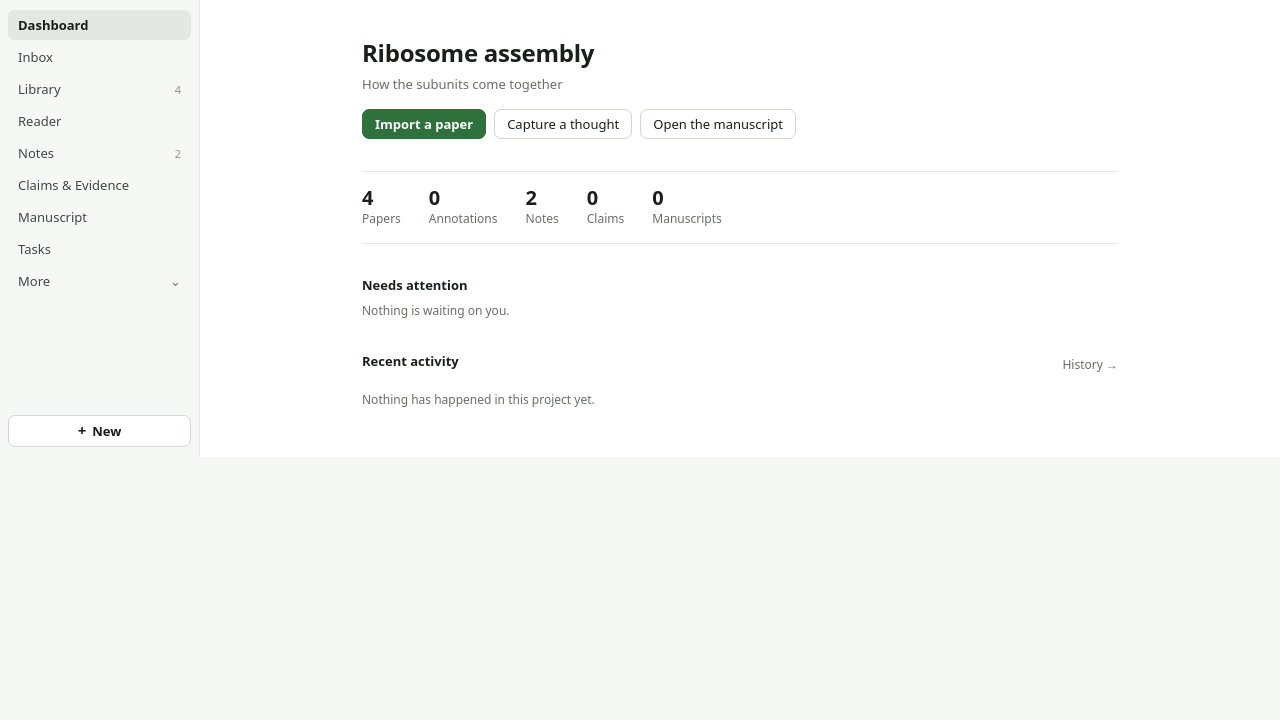
Scenario: the rail › folds everything else behind More
Expected: the button "Trash" is not shown
What coordinates should you click on to do the following:
click the button with aria-label "More pages"
I would click on:
 (100, 281)
Its box is [8,266,191,296].
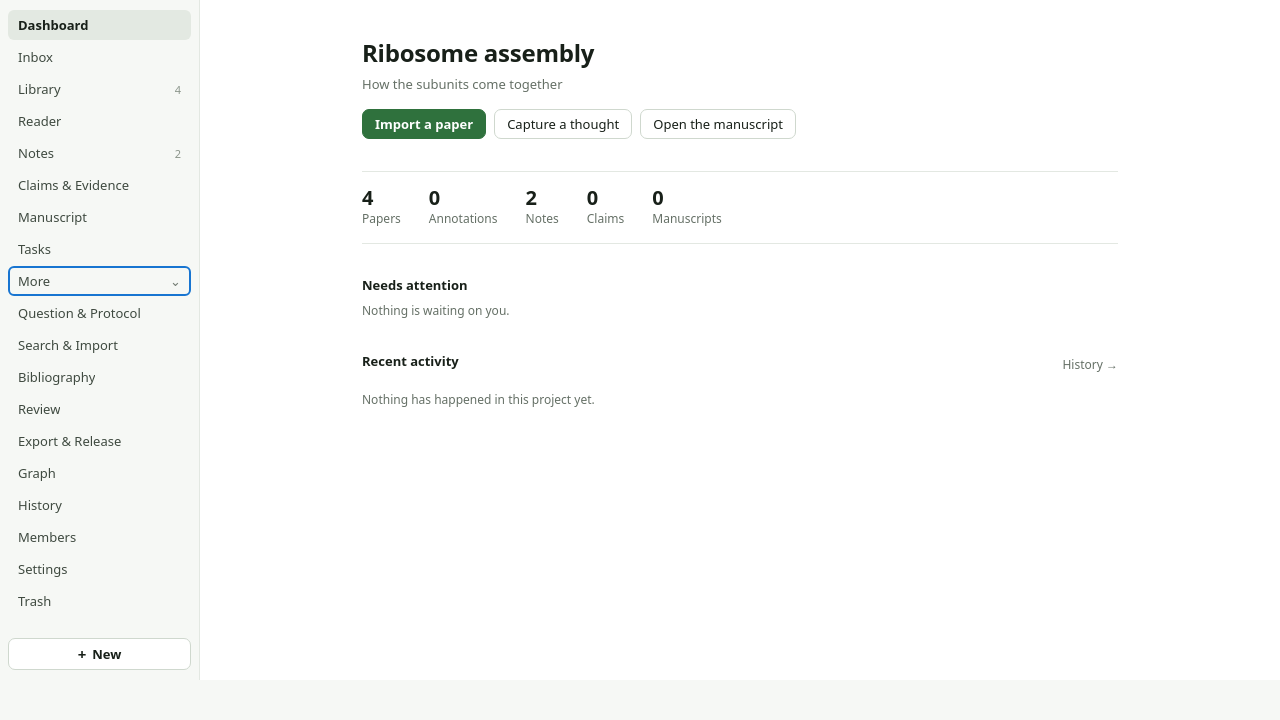
Expected: the button "Trash" is shown, [8,586,191,616]
